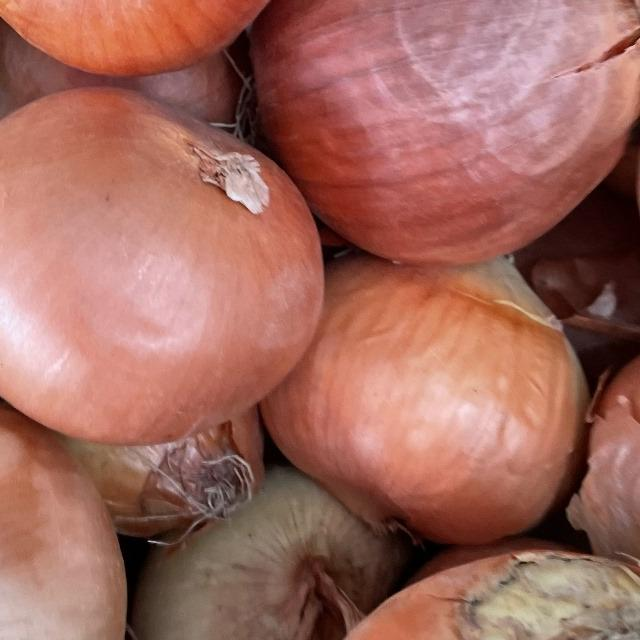onion: (0, 77, 365, 442)
